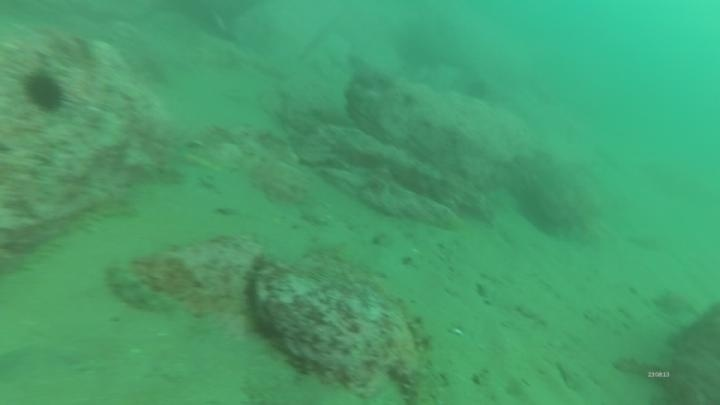echinus: (20, 69, 68, 115)
holothurian: (102, 261, 180, 316)
